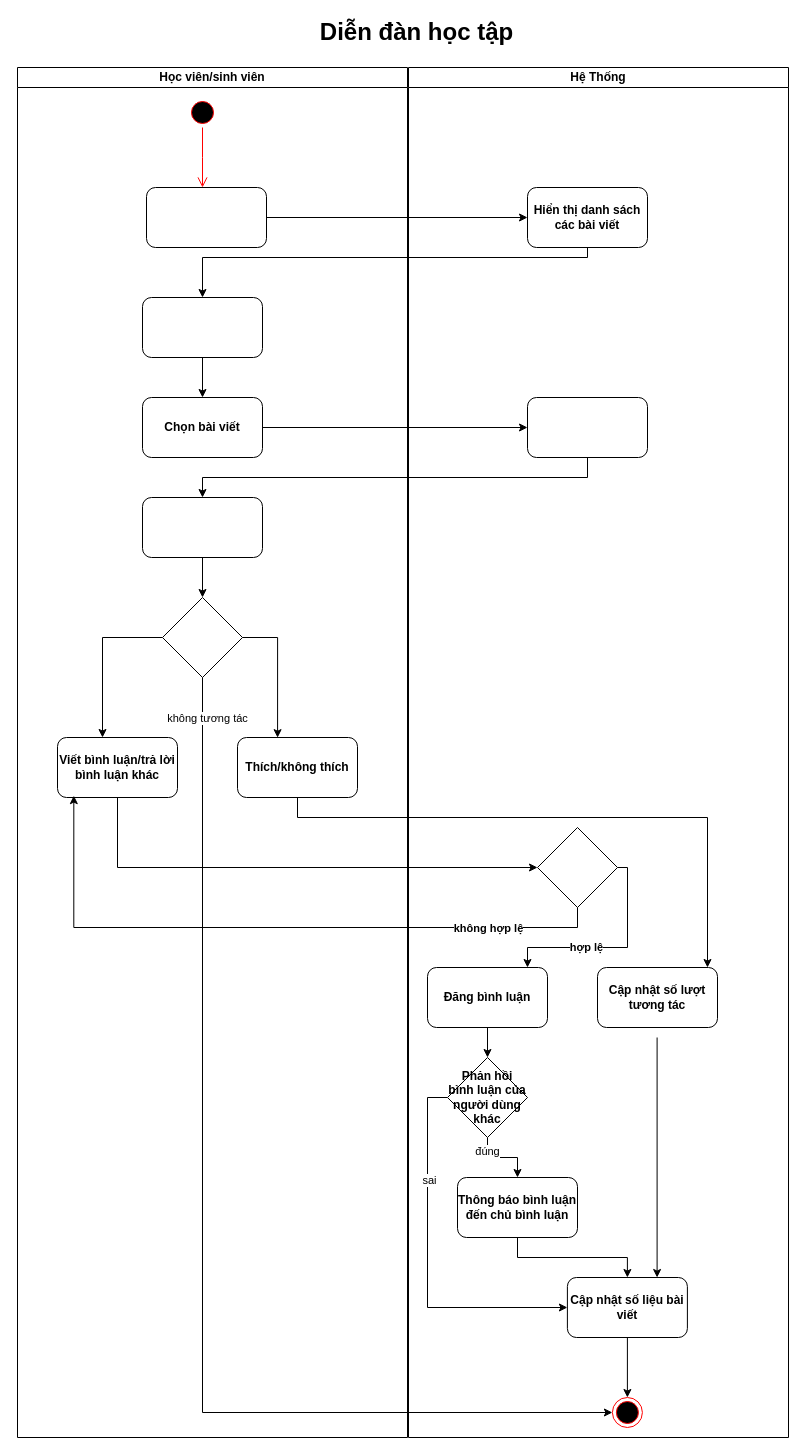
This 806x1455 diagram has some shape labels left out. The centre of each missing label's shape, as x and y in pixels:
"Bình luận hợp lệ" goes at pixel 577 867.
"Hiển thị nội dung bài viết" goes at pixel 587 427.
"Truy cập diễn đàn" goes at pixel 206 217.
"Tương tác" goes at pixel 202 637.
"Xem danh sách bài viết" goes at pixel 202 327.
"Đọc bài viết" goes at pixel 202 527.
